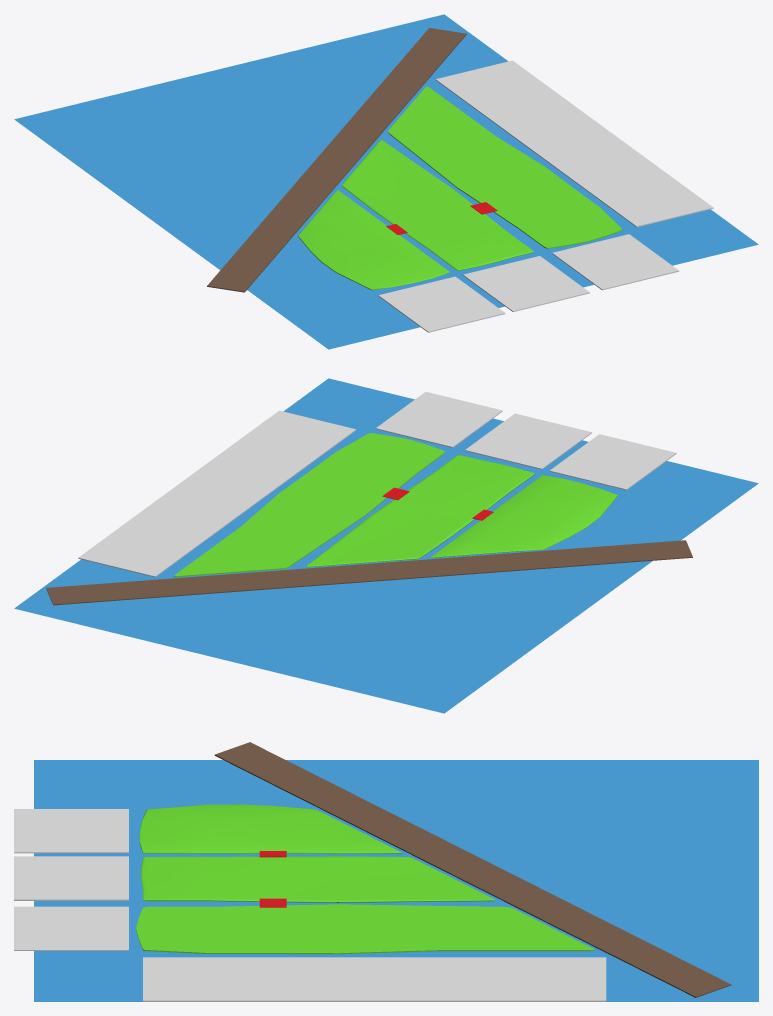
The model's file is Polder_Map_V5.fbx.
The picture shows the model from 3 angles, top to bottom: view 1: azimuth 30°, elevation 25°; view 2: azimuth 150°, elevation 25°; view 3: azimuth 270°, elevation 25°; orthographic projection. The views are drawn at different scales.
Parts seen in each view (by area): view 1: Water, Landje_03.004, Landje_03, Weg, Landje_02, Landje_01, Landje_03.002, Landje_03.003, Landje_03.001; view 2: Water, Landje_03.004, Landje_03, Weg, Landje_02, Landje_01, Landje_03.001, Landje_03.002, Landje_03.003; view 3: Water, Landje_03.004, Landje_03, Weg, Landje_02, Landje_01, Landje_03.003, Landje_03.001, Landje_03.002.
Boxes of the visible parts, x1,y1,x2,y2 form: Water: [14, 14, 758, 349]; Landje_03.004: [435, 60, 713, 227]; Landje_03: [388, 86, 622, 248]; Weg: [207, 28, 466, 292]; Landje_02: [342, 139, 533, 270]; Landje_01: [298, 190, 449, 290]; Landje_03.002: [552, 234, 679, 290]; Landje_03.003: [378, 276, 505, 332]; Landje_03.001: [463, 256, 589, 311]; Water: [14, 378, 758, 713]; Landje_03.004: [78, 410, 356, 577]; Landje_03: [174, 433, 445, 577]; Weg: [46, 540, 692, 605]; Landje_02: [306, 454, 534, 567]; Landje_01: [430, 475, 617, 557]; Landje_03.001: [465, 413, 591, 469]; Landje_03.002: [375, 392, 502, 447]; Landje_03.003: [549, 434, 676, 490]; Water: [34, 760, 758, 1001]; Landje_03.004: [143, 957, 606, 1001]; Landje_03: [136, 904, 594, 954]; Weg: [214, 742, 731, 997]; Landje_02: [141, 856, 495, 902]; Landje_01: [139, 804, 401, 853]; Landje_03.003: [14, 809, 128, 853]; Landje_03.001: [14, 856, 128, 900]; Landje_03.002: [14, 906, 128, 950].
Bounding box in the file's own units: 48053 × 348 × 58478.
